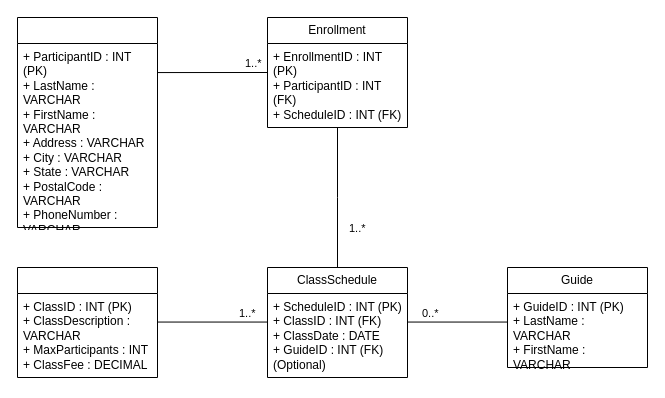
This 665x398 diagram has some shape labels left out. Each missing label, with the box of its shape:
AdventureClass: (16, 266, 158, 378)
Participants: (16, 16, 158, 228)
